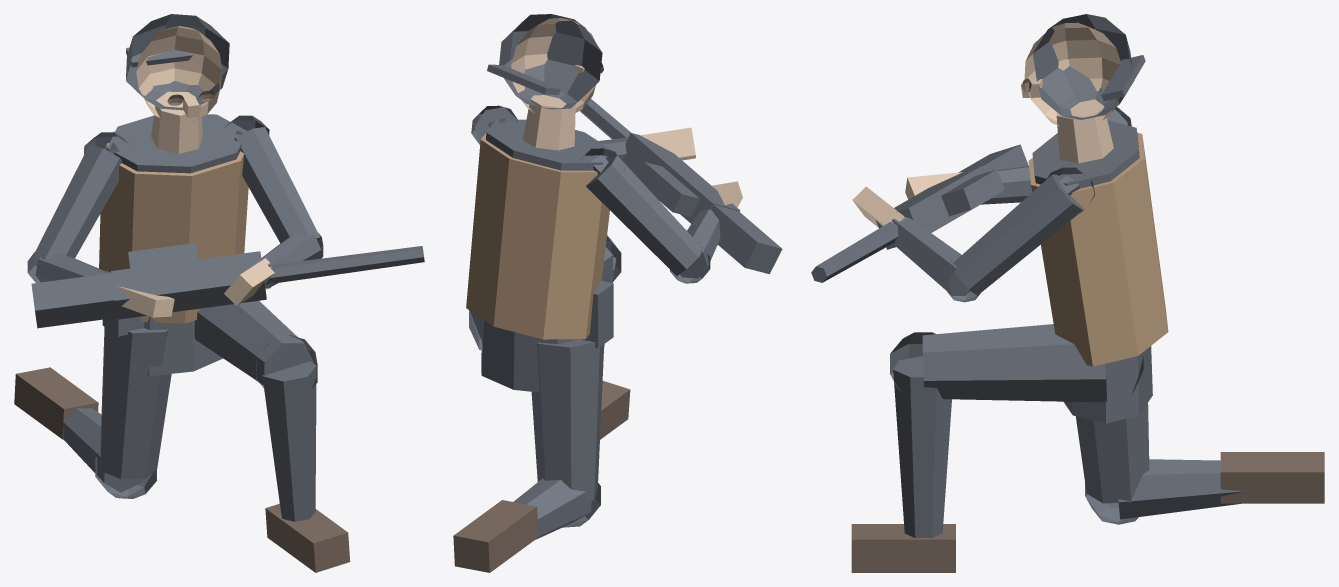
The model's file is low-poly-character-figures-soldier-kneeling-eaf4b0bb__36368.glb.
The picture shows the model from 3 angles, left to right: view 1: azimuth 30°, elevation 25°; view 2: azimuth 150°, elevation 25°; view 3: azimuth 270°, elevation 25°; orthographic projection. The views are drawn at different scales.
Visible parts, largest first — view 1: soldier-kneeling; view 2: soldier-kneeling; view 3: soldier-kneeling.
Part boxes in pixels (<box>): soldier-kneeling: <box>14,14,424,572</box>; soldier-kneeling: <box>453,14,782,572</box>; soldier-kneeling: <box>811,14,1324,572</box>.
Size of the model in its own units: 0.9162 by 1.35 by 1.21.
